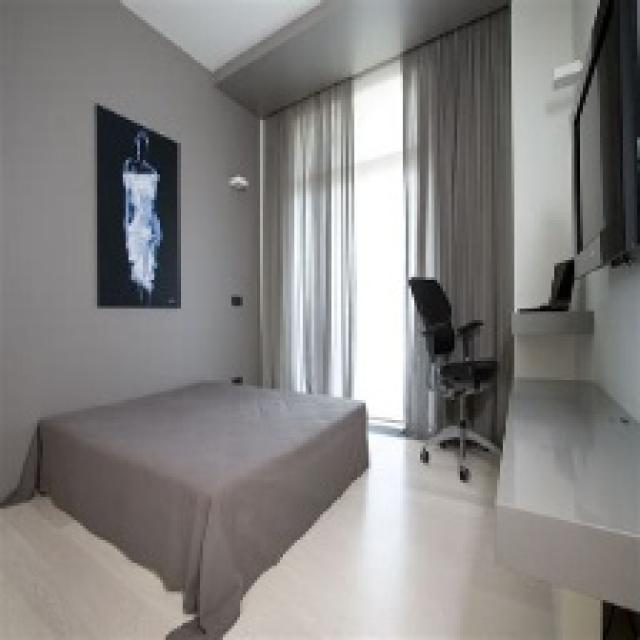Bed: (34, 377, 369, 637)
